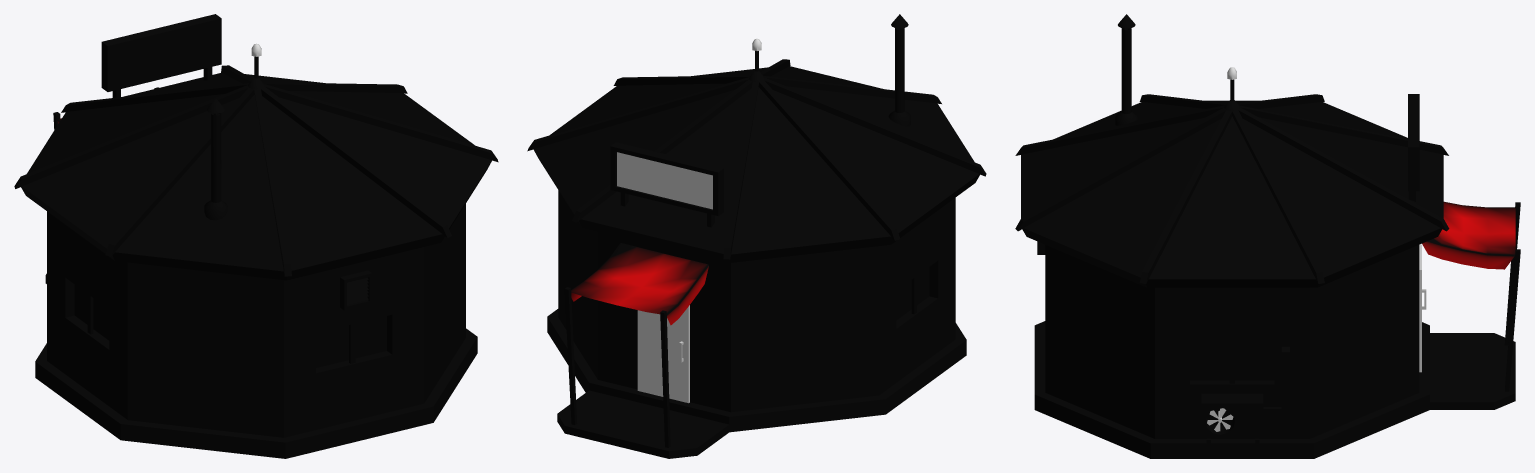
The model's file is Fishfactory.fbx.
3 views of the same model, side by side, from view 1: azimuth 30°, elevation 25°; view 2: azimuth 150°, elevation 25°; view 3: azimuth 270°, elevation 25° (orthographic). The views are drawn at different scales.
Parts seen in each view (by area): view 1: Fishfactory; view 2: Fishfactory, Fishfactory_Door, Fishfactory_Sign_On; view 3: Fishfactory.
Boxes of the visible parts, x1=… form: Fishfactory: x1=14, y1=14, x2=498, y2=458; Fishfactory: x1=527, y1=14, x2=986, y2=458; Fishfactory_Door: x1=637, y1=305, x2=689, y2=403; Fishfactory_Sign_On: x1=617, y1=152, x2=712, y2=209; Fishfactory: x1=1015, y1=14, x2=1520, y2=458.
Size of the model in its own units: 498 by 401 by 580.
